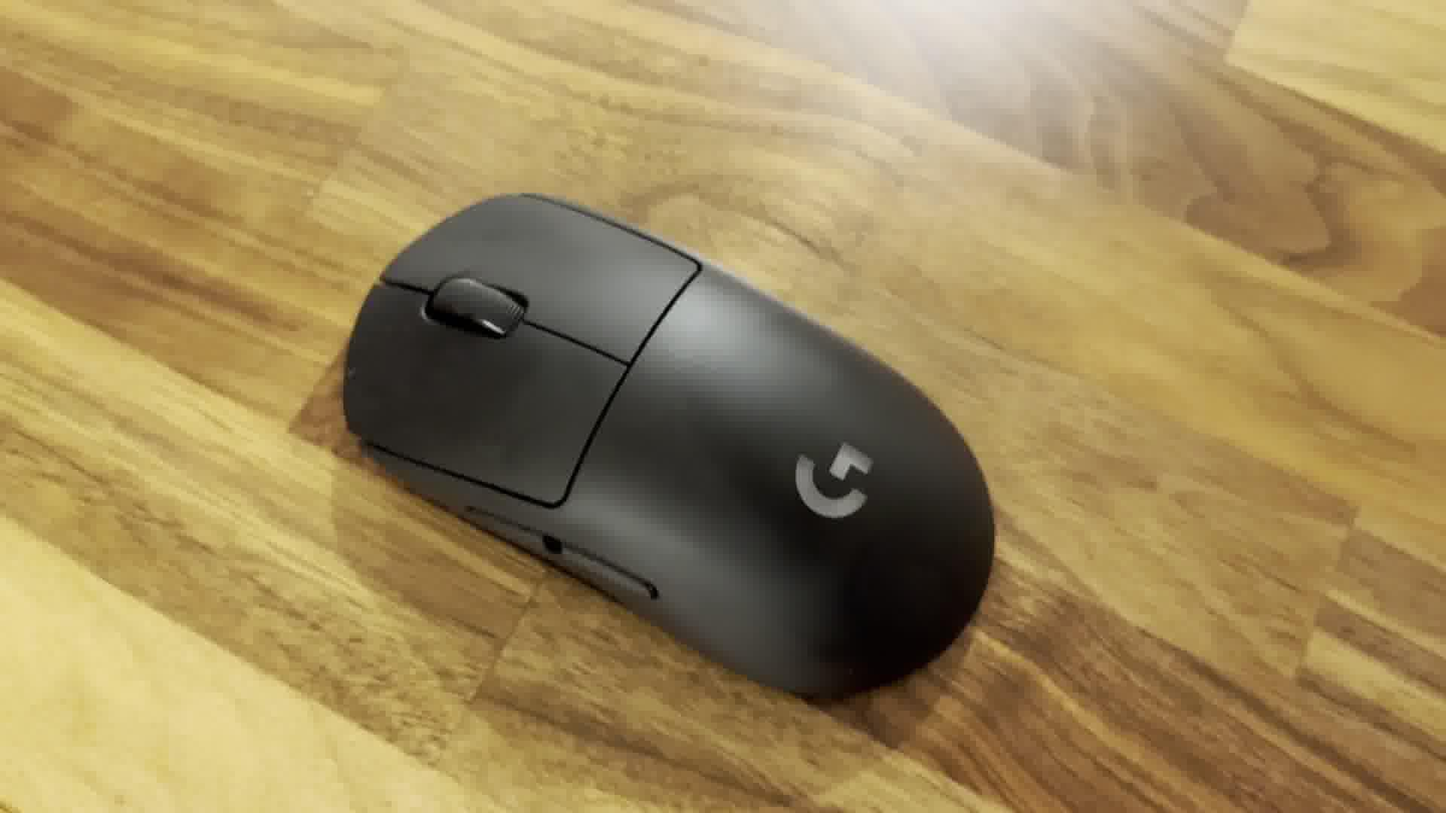mouse: (336, 182, 1007, 708)
